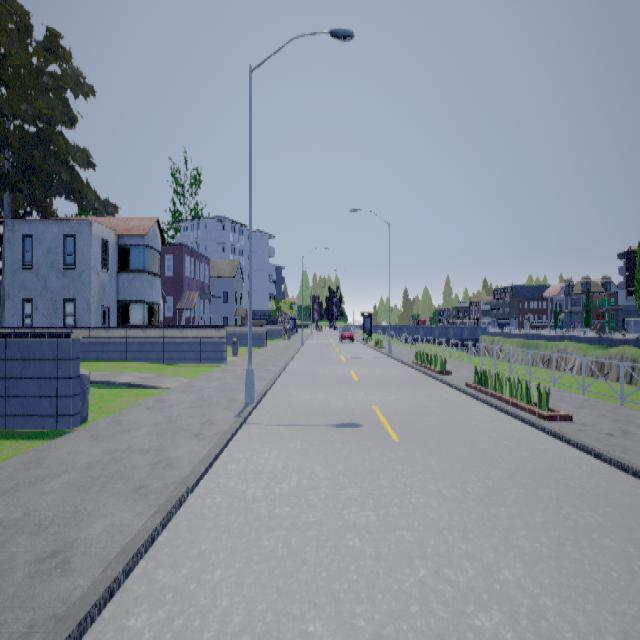vehicle: (340, 322, 355, 342)
